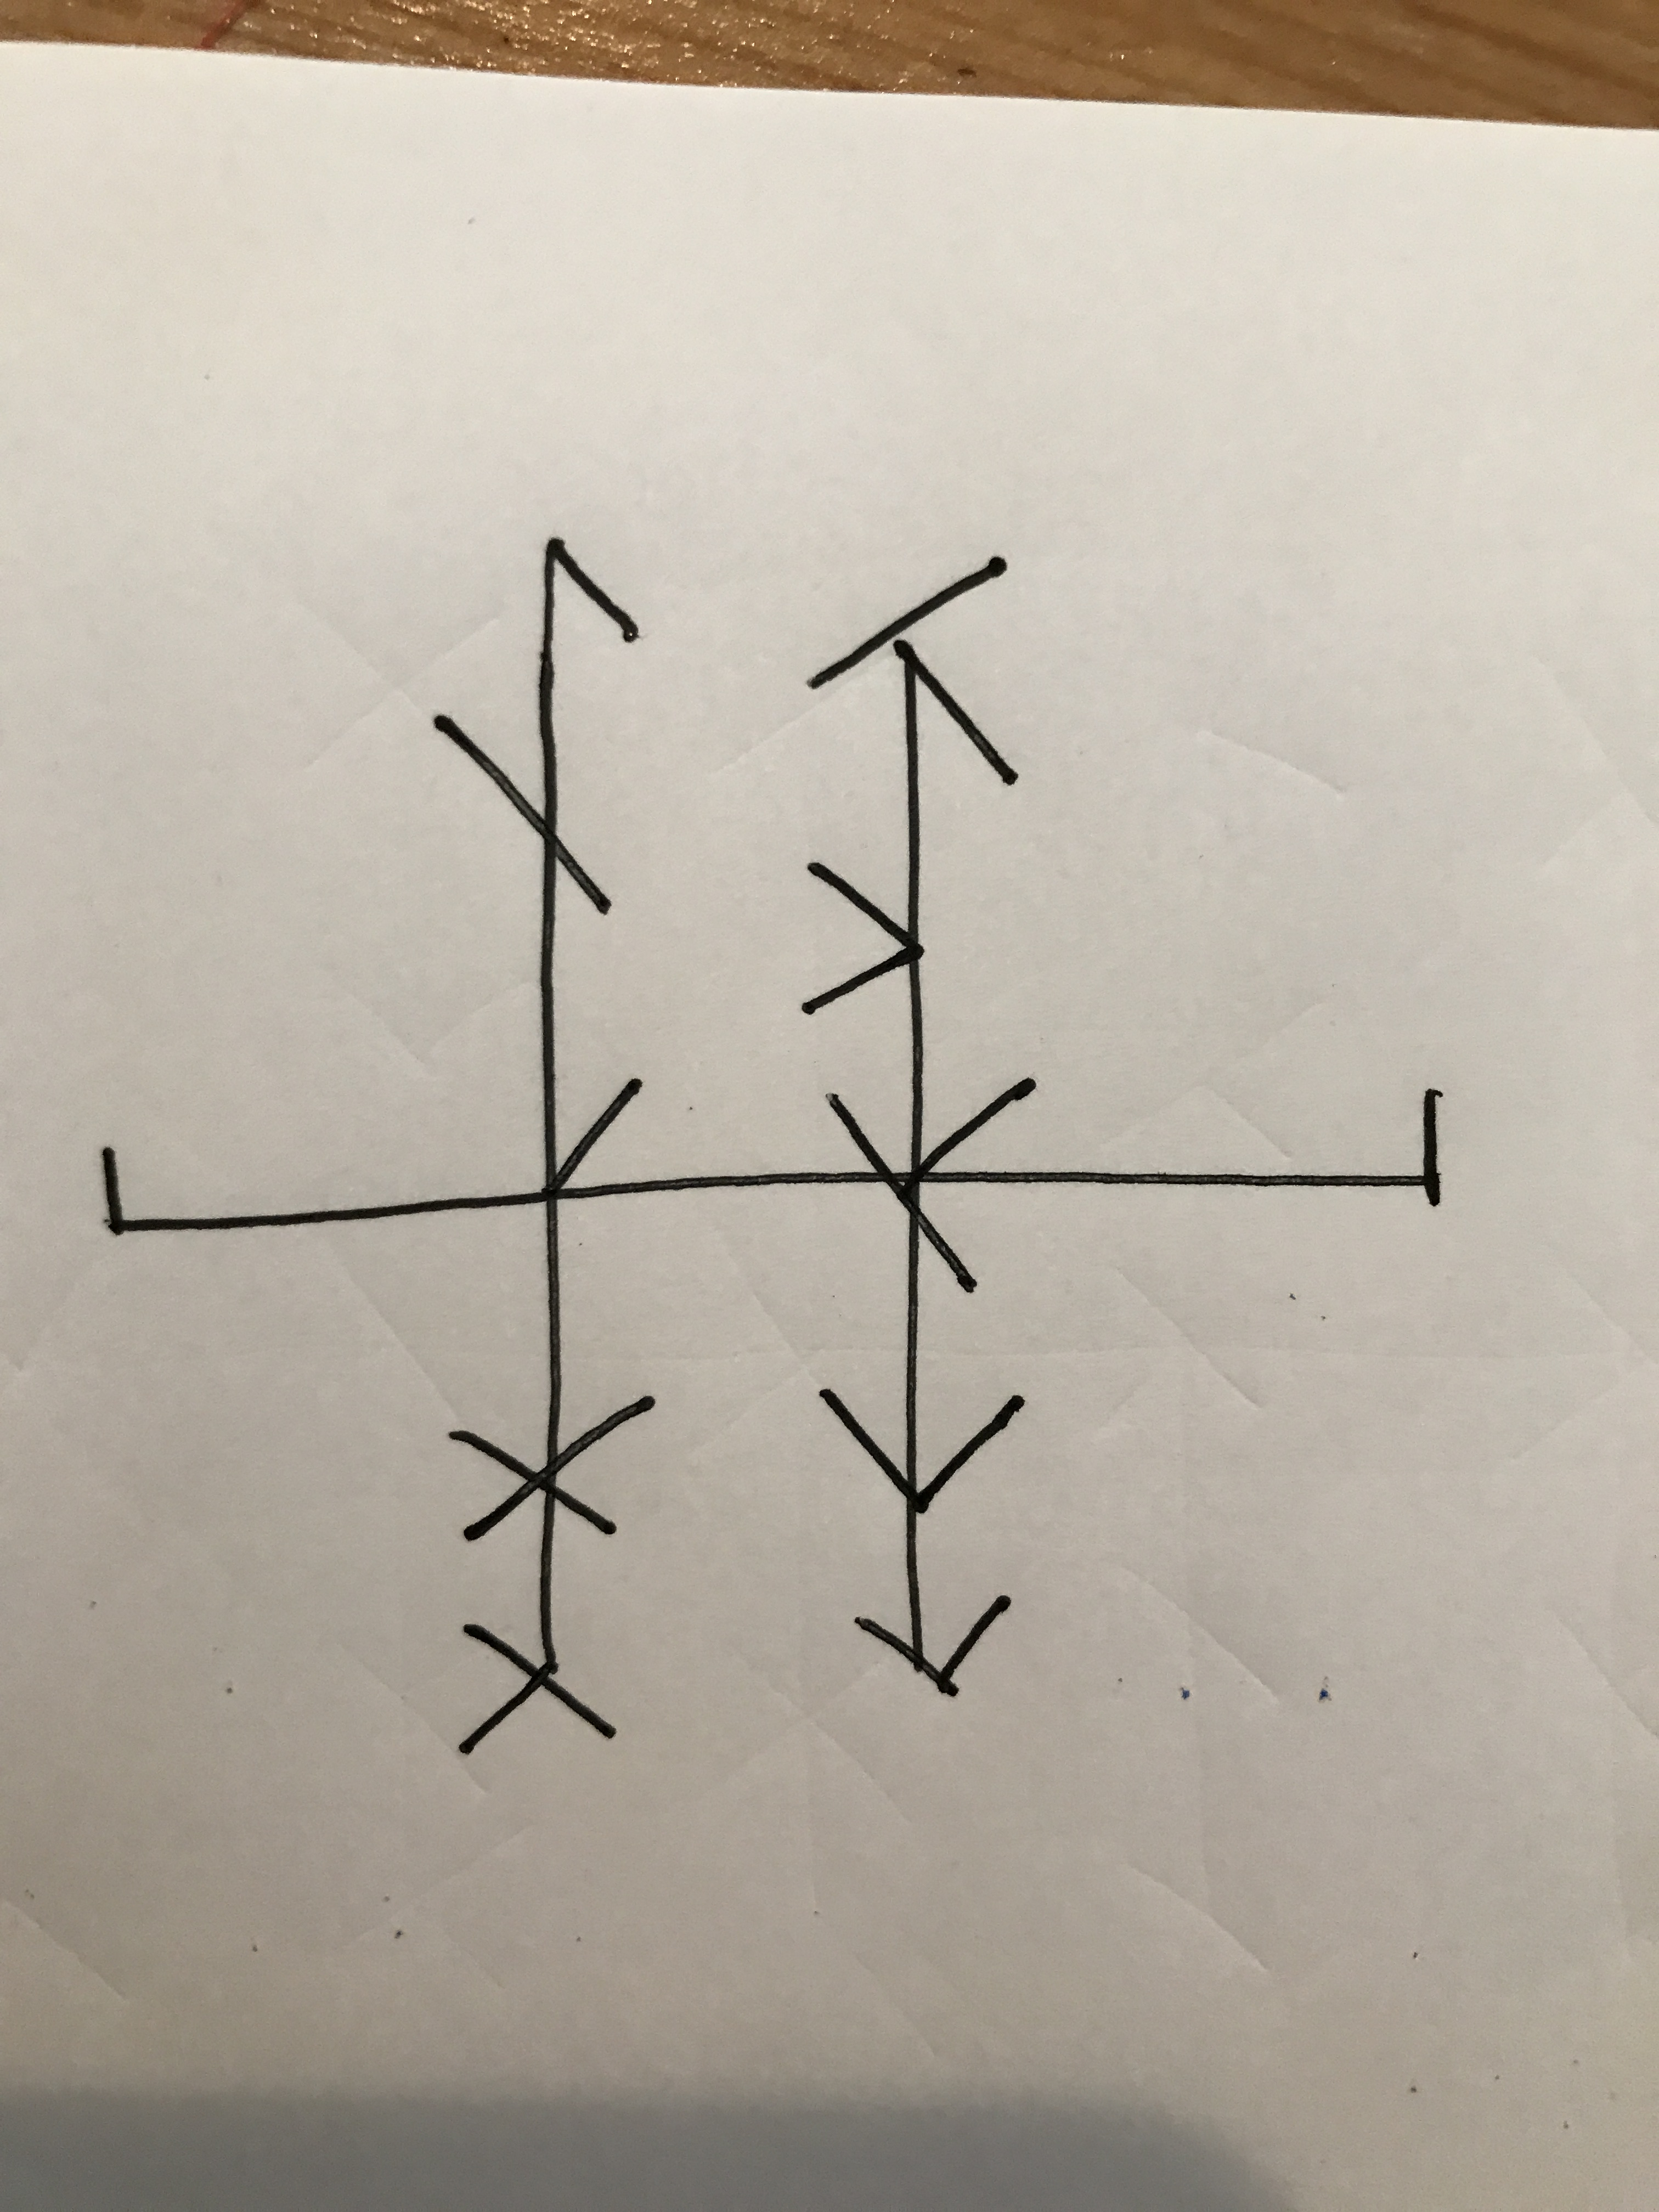Bar: (432, 538, 655, 1754), (805, 552, 1035, 1702)
Barcode: (101, 535, 1445, 1754)
End: (1035, 1087, 1443, 1209)
Start: (101, 1146, 540, 1238)
